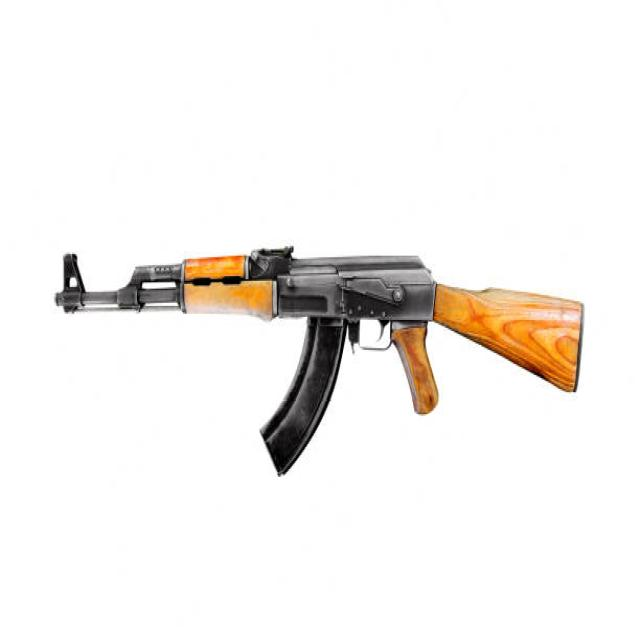rifle: (45, 237, 591, 493)
